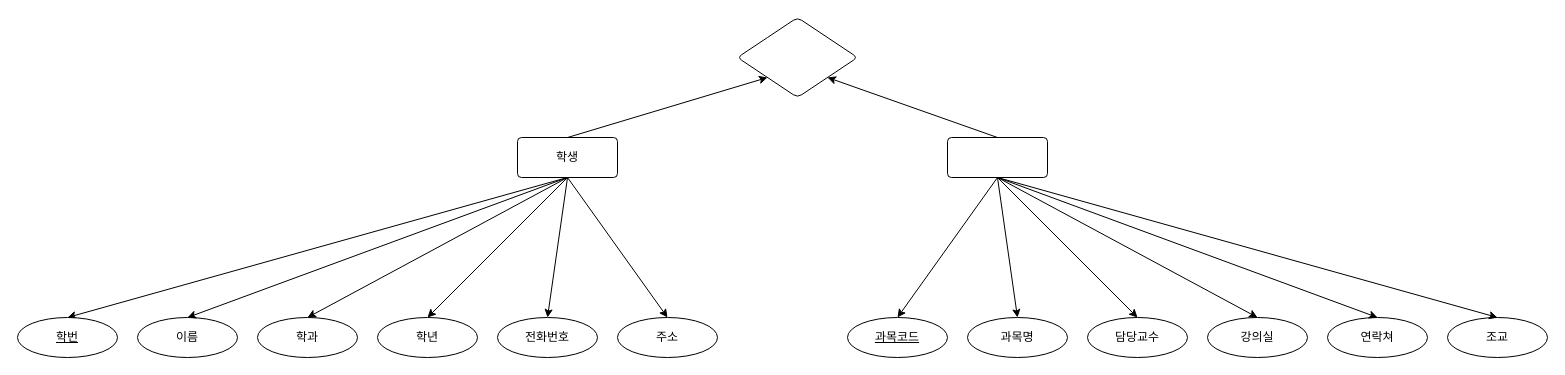
Image size: 1565x375. Some labels were removed from this diagram. Each missing label, with the centre of its shape:
"과목" belongs at (x=997, y=157).
"수강신청" belongs at (x=797, y=57).
